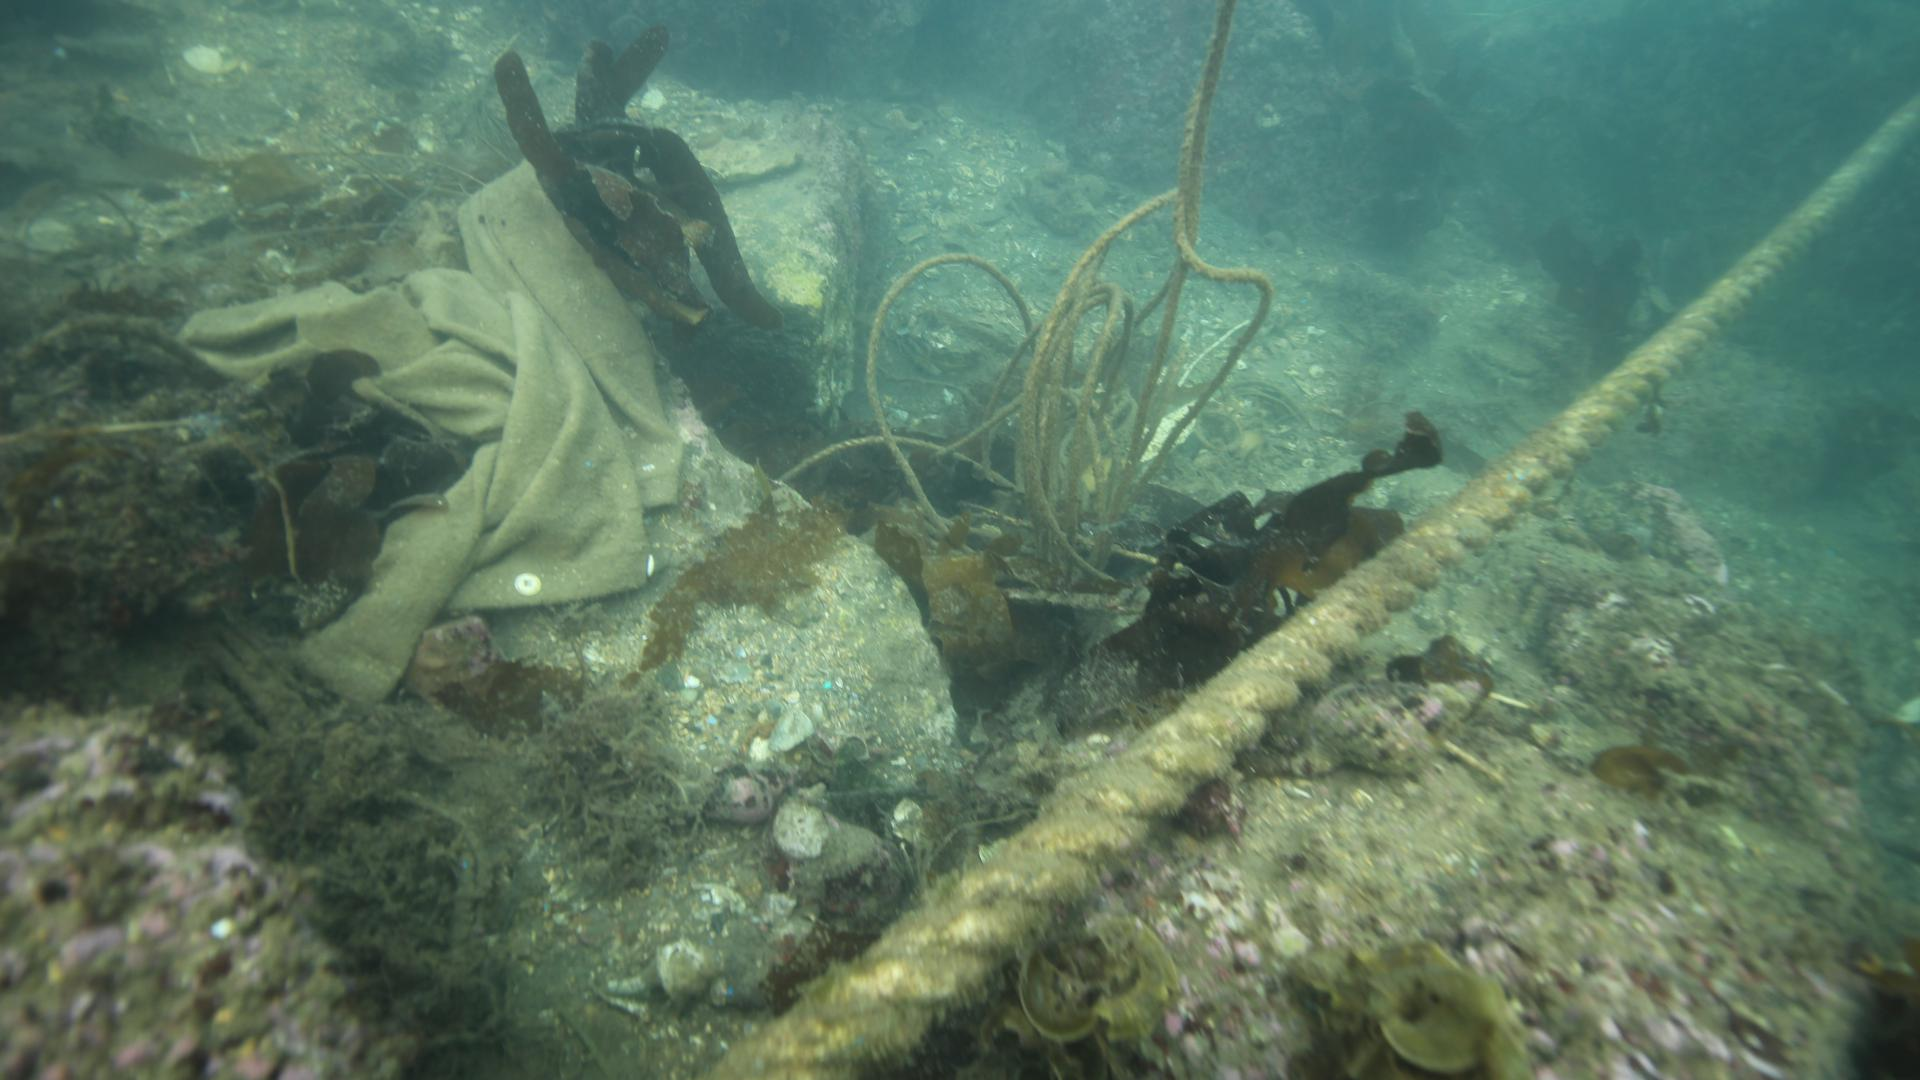bundle of ropes: (775, 0, 1276, 633)
rope: (684, 84, 1920, 1080)
